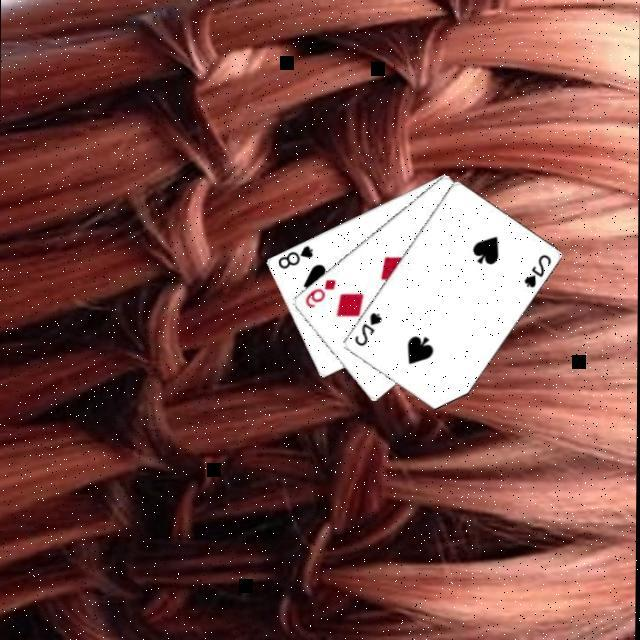2S: (352, 311, 386, 350), (522, 254, 555, 292)
6D: (304, 278, 339, 312)
8S: (276, 245, 317, 272)
